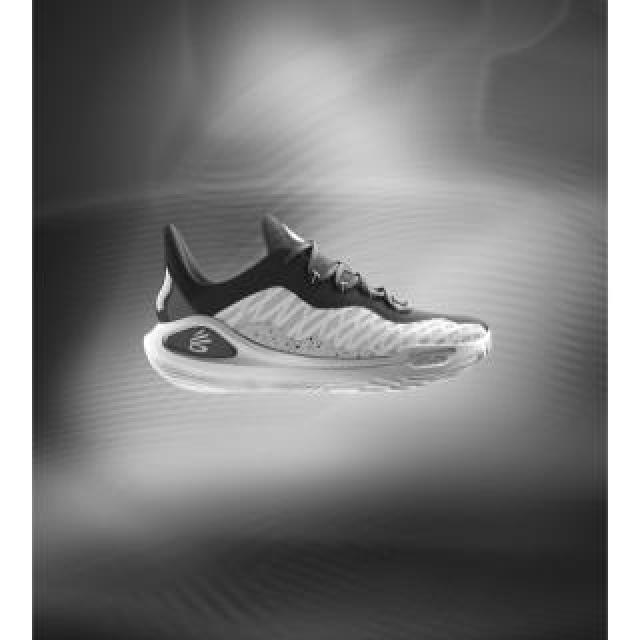shoe: (144, 212, 488, 394)
